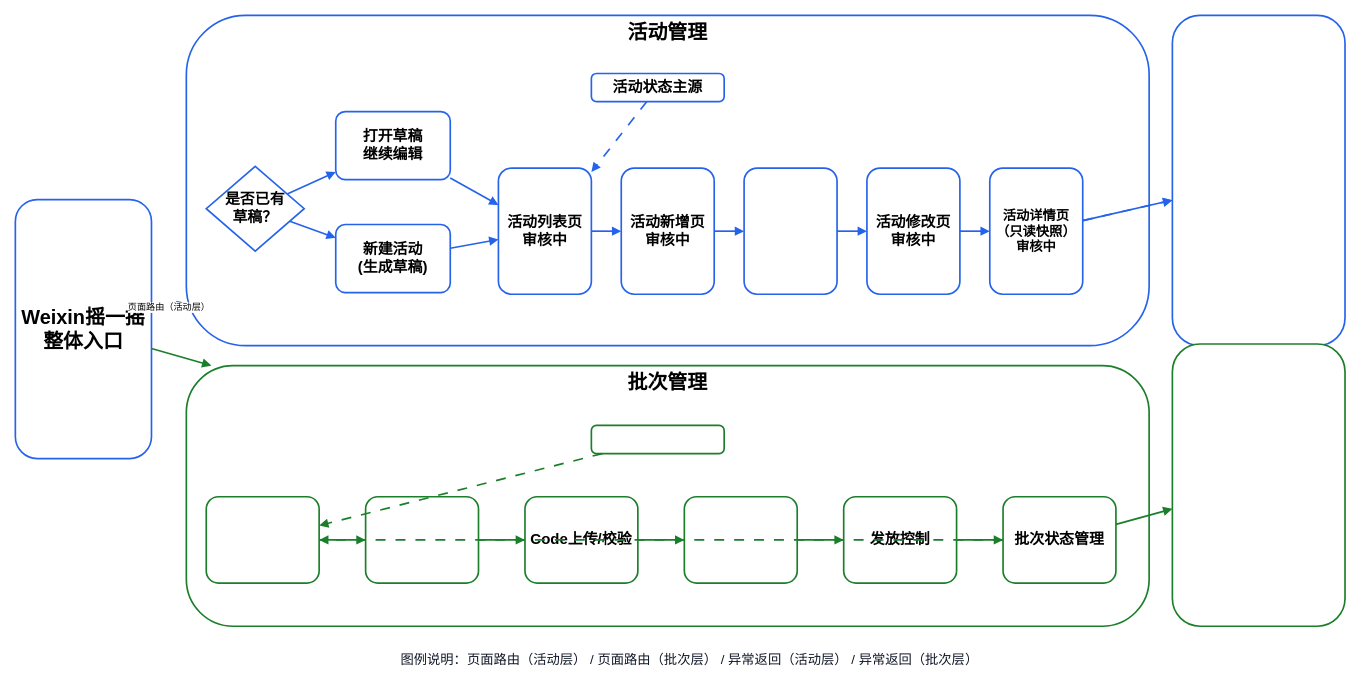
Image size: 1360x688. Some labels were removed from this diagram. Here are the shapes that lost their labels. From the top down, the centre of each, then its label:
At (1258,180): "活动层状态结果 草稿 审核中 生效中 已失效".
At (790,231): "活动编辑页 审核中".
At (657,439): "批次状态主源".
At (1258,485): "批次层状态结果 审核中 批次发放中 暂停中 已停止 已失效".
At (262,539): "批次列表页".
At (421,539): "批次预配置".
At (740,539): "门店关联".
